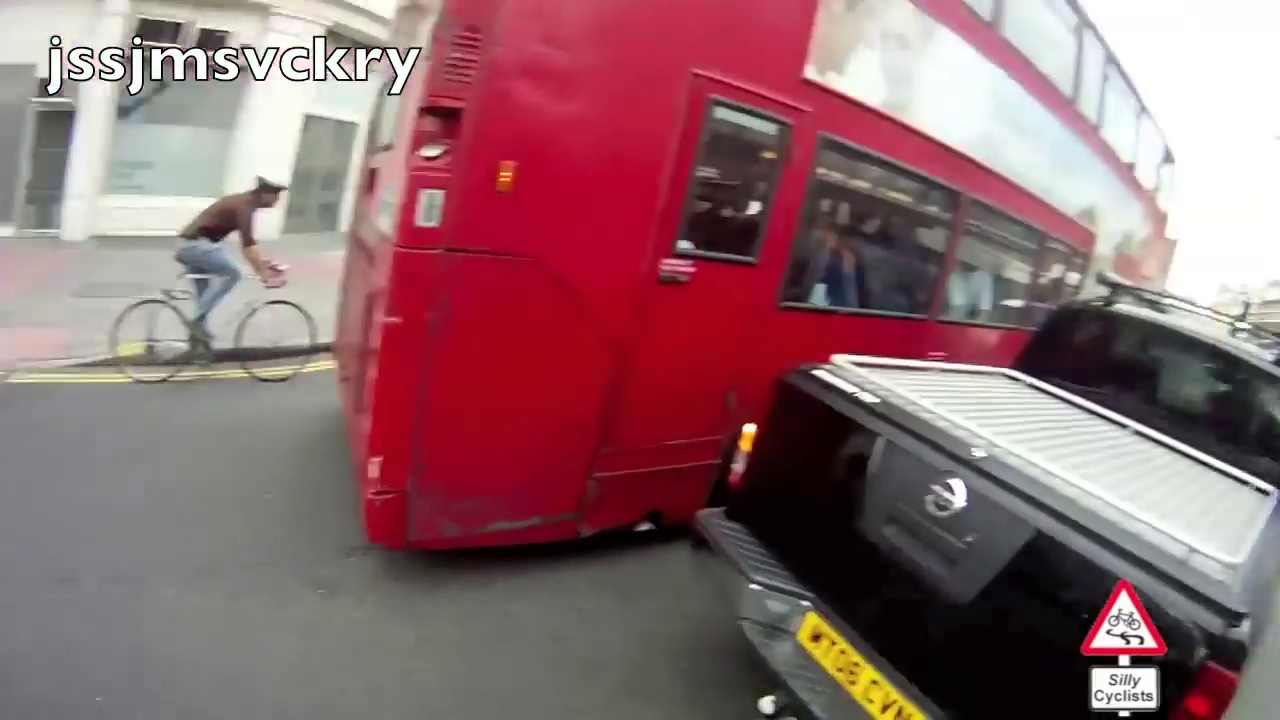cyclist_side: (109, 173, 318, 384)
